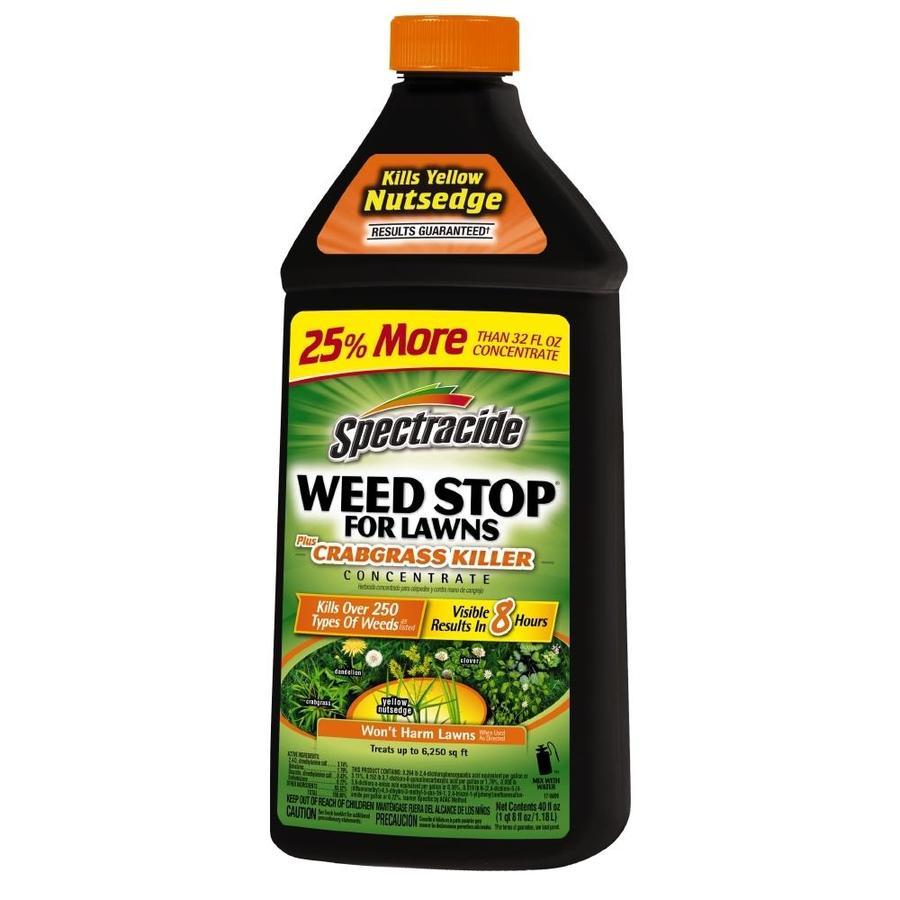crabgrass: (288, 656, 337, 724)
